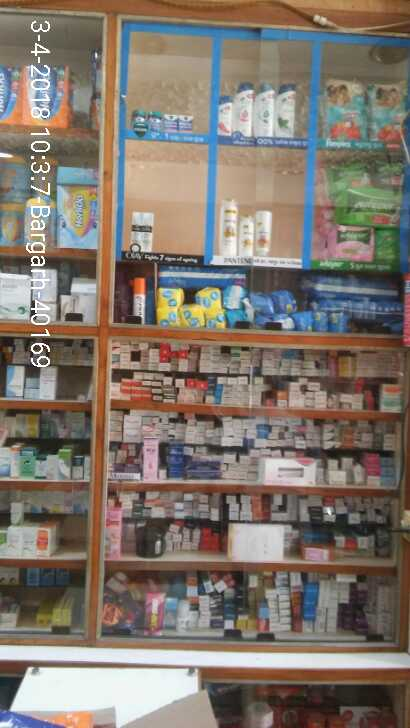vicks: (132, 107, 196, 136)
